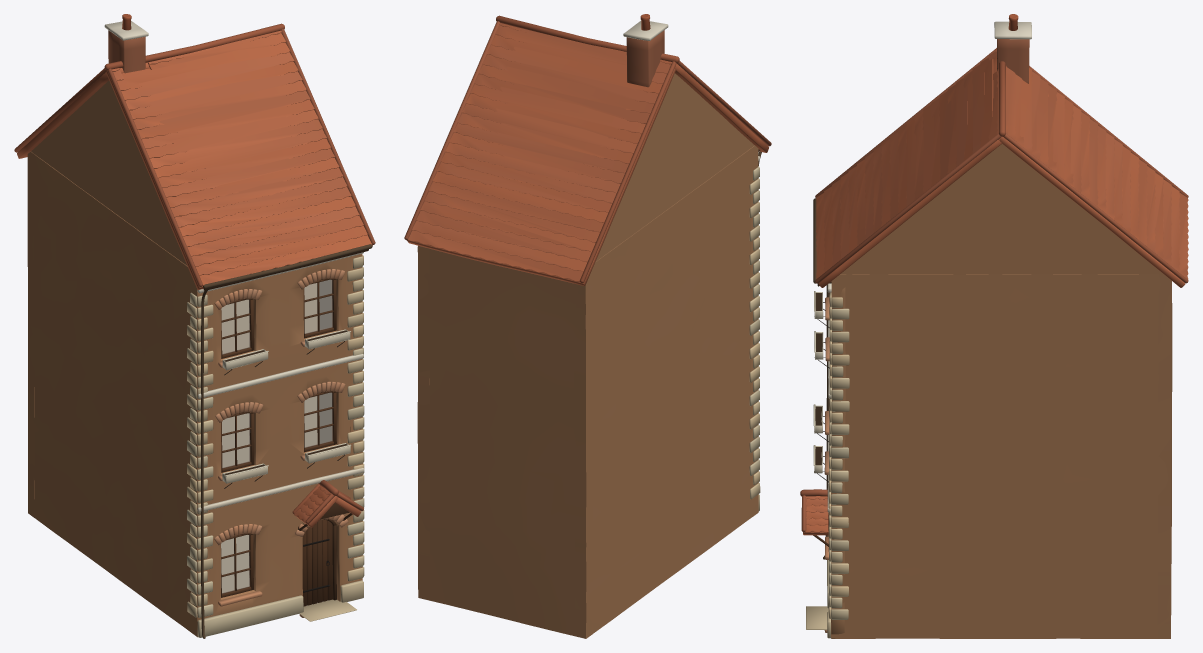
Rendered from GateStreet_BehindOuter4.glb.
3 views of the same model, side by side, from view 1: azimuth 30°, elevation 25°; view 2: azimuth 150°, elevation 25°; view 3: azimuth 270°, elevation 25° (orthographic).
Parts seen in each view (by area): view 1: Sammel Ziegel, Sammel Stein, Sammel Holz, Sammel Putz, Sammel Putz innen, Glas, Sammel Metall, Sammel Lack; view 2: Sammel Ziegel, Sammel Stein, Sammel Putz; view 3: Sammel Ziegel, Sammel Stein, Sammel Putz, Sammel Lack, Sammel Metall.
Boxes of the visible parts, box(x1,y1,x2,y2) form: Sammel Ziegel: box(27, 30, 362, 637); Sammel Stein: box(14, 23, 375, 637); Sammel Holz: box(203, 249, 368, 606); Sammel Putz: box(104, 14, 364, 617); Sammel Putz innen: box(221, 279, 331, 592); Glas: box(221, 280, 332, 593); Sammel Metall: box(201, 244, 372, 638); Sammel Lack: box(222, 329, 351, 483); Sammel Ziegel: box(417, 30, 758, 638); Sammel Stein: box(404, 15, 771, 511); Sammel Putz: box(623, 14, 759, 160); Sammel Ziegel: box(831, 39, 1172, 638); Sammel Stein: box(800, 48, 1188, 638); Sammel Putz: box(815, 14, 1031, 632); Sammel Lack: box(813, 291, 823, 473); Sammel Metall: box(813, 198, 829, 559).
Size of the model in its own units: 4.88 by 14.44 by 9.14.
